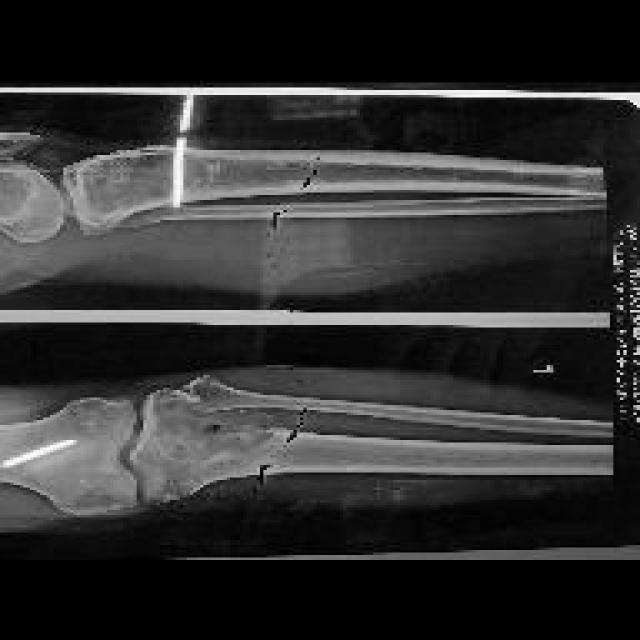bone-cancer: (147, 390, 285, 456), (65, 149, 174, 217), (173, 149, 207, 202)
